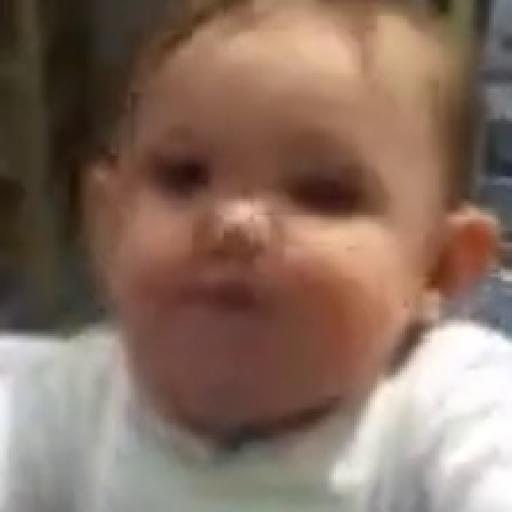Autism: (93, 18, 490, 434)
